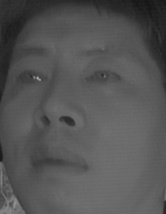eye: (85, 67, 122, 88), (16, 66, 49, 88)
mouth: (24, 141, 93, 183)
